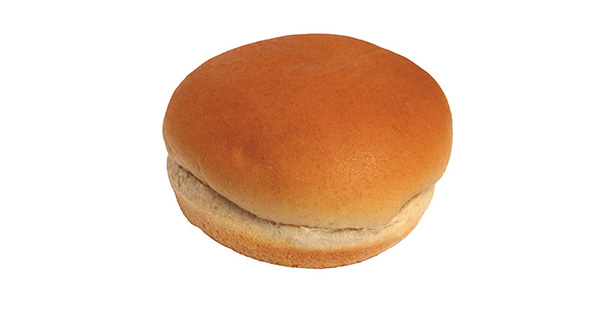hamburger_buns: (148, 30, 466, 281)
